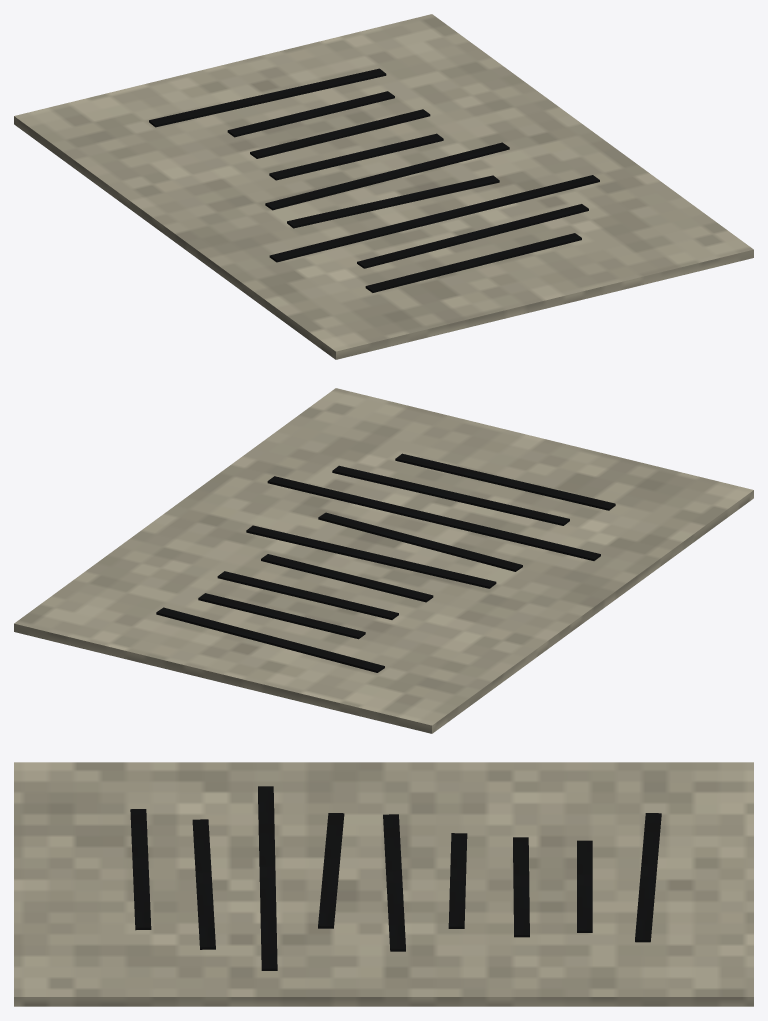
File: note_paper.glb
3 views of the same model, one above another, from view 1: azimuth 30°, elevation 25°; view 2: azimuth 150°, elevation 25°; view 3: azimuth 270°, elevation 25° (orthographic). The views are drawn at different scales.
Visible parts, largest first — view 1: note_paper; view 2: note_paper; view 3: note_paper.
Boxes of the visible parts, x1=… form: note_paper: x1=14, y1=14, x2=753, y2=359; note_paper: x1=14, y1=388, x2=753, y2=733; note_paper: x1=14, y1=762, x2=753, y2=1006.
Size of the model in its own units: 0.21 by 0.005 by 0.28.
2 materials, 2 textured.
